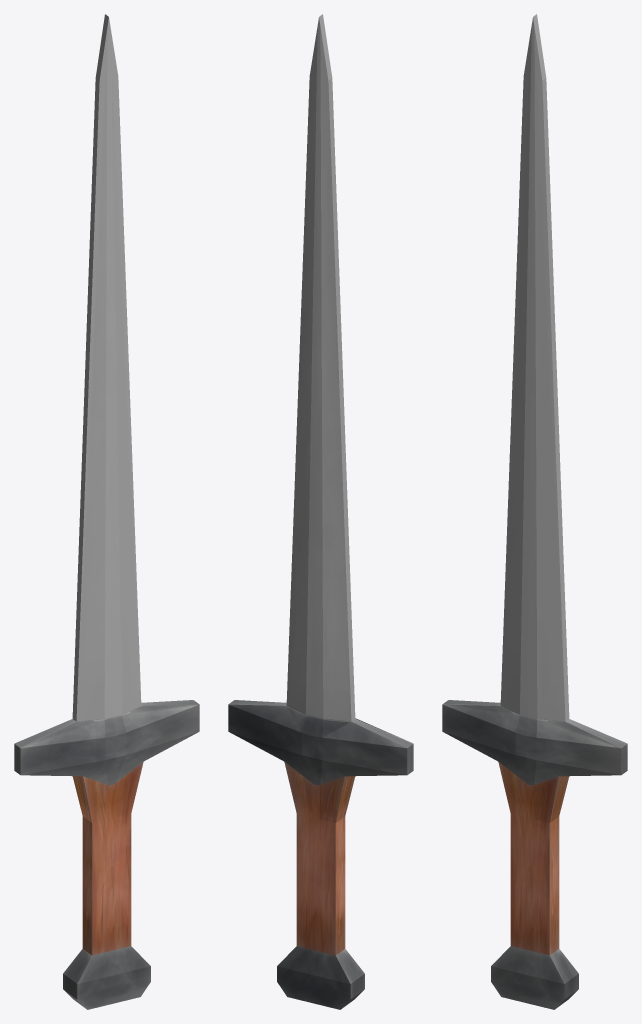
File: Sword1.fbx
The picture shows the model from 3 angles, left to right: view 1: azimuth 30°, elevation 25°; view 2: azimuth 150°, elevation 25°; view 3: azimuth 330°, elevation 25°; orthographic projection.
Parts seen in each view (by area): view 1: Cube; view 2: Cube; view 3: Cube.
Part boxes in pixels (<box>): Cube: <box>14,14,199,1009</box>; Cube: <box>228,14,413,1009</box>; Cube: <box>442,14,627,1009</box>.
Size of the model in its own units: 22.36 by 117 by 3.85.
